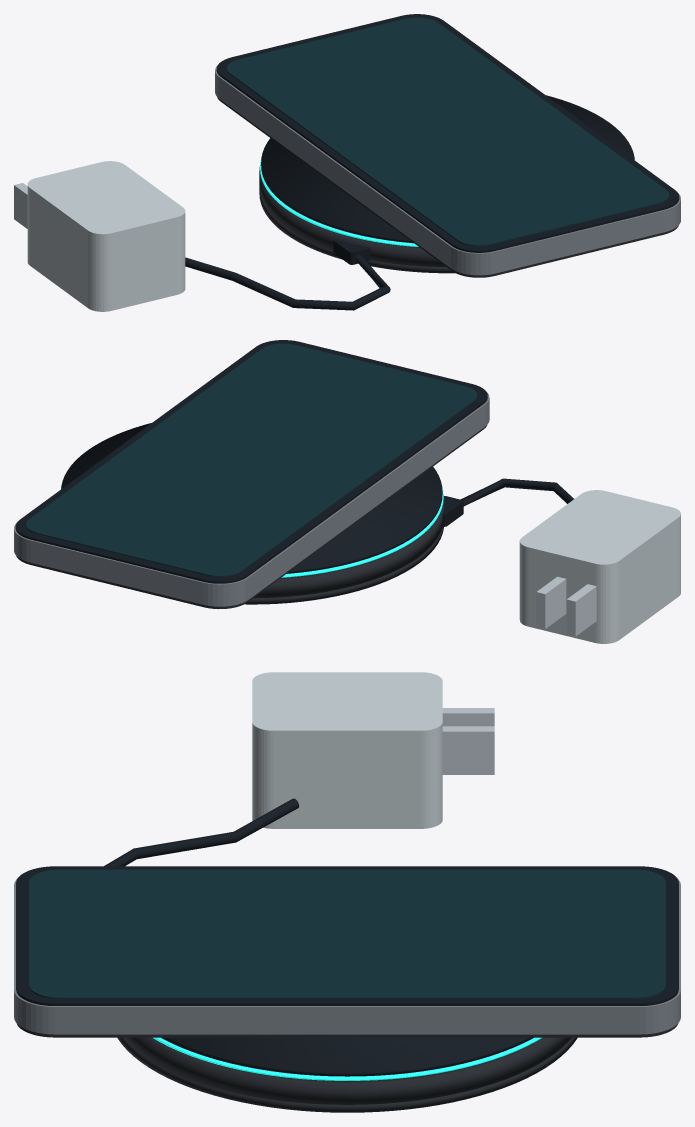
The model's file is wireless-charging-blockout.glb.
3 renders of one model, top to bottom at view 1: azimuth 30°, elevation 25°; view 2: azimuth 150°, elevation 25°; view 3: azimuth 270°, elevation 25°, orthographic. The views are drawn at different scales.
Visible parts, largest first — view 1: screen__wireless_screen, adapter__wireless_white, phone_frame__wireless_frame, pad_cover__wireless_black, screen__wireless_black, pad_base__wireless_graphite, cable__wireless_black, phone_back__wireless_graphite, pad_cover__wireless_teal, adapter__wireless_silver; view 2: screen__wireless_screen, adapter__wireless_white, phone_frame__wireless_frame, pad_cover__wireless_black, screen__wireless_black, pad_base__wireless_graphite, adapter__wireless_silver, cable__wireless_black, phone_back__wireless_graphite, pad_cover__wireless_teal; view 3: screen__wireless_screen, adapter__wireless_white, phone_frame__wireless_frame, pad_base__wireless_graphite, pad_cover__wireless_black, screen__wireless_black, adapter__wireless_silver, phone_back__wireless_graphite, cable__wireless_black, pad_cover__wireless_teal.
Boxes of the visible parts, <box> form: screen__wireless_screen: <box>227,17,669,246</box>; adapter__wireless_white: <box>27,161,185,311</box>; phone_frame__wireless_frame: <box>215,65,680,275</box>; pad_cover__wireless_black: <box>261,95,634,243</box>; screen__wireless_black: <box>216,14,679,252</box>; pad_base__wireless_graphite: <box>259,165,455,273</box>; cable__wireless_black: <box>185,238,390,310</box>; phone_back__wireless_graphite: <box>217,97,678,277</box>; pad_cover__wireless_teal: <box>260,158,635,246</box>; adapter__wireless_silver: <box>14,183,27,228</box>; screen__wireless_screen: <box>26,343,477,576</box>; adapter__wireless_white: <box>519,490,680,643</box>; phone_frame__wireless_frame: <box>14,392,489,606</box>; pad_cover__wireless_black: <box>61,423,442,573</box>; screen__wireless_black: <box>15,340,487,583</box>; pad_base__wireless_graphite: <box>245,494,444,604</box>; adapter__wireless_silver: <box>536,576,596,636</box>; cable__wireless_black: <box>442,478,573,526</box>; phone_back__wireless_graphite: <box>16,425,487,609</box>; pad_cover__wireless_teal: <box>60,487,443,577</box>; screen__wireless_screen: <box>29,869,665,998</box>; adapter__wireless_white: <box>252,672,442,828</box>; phone_frame__wireless_frame: <box>14,878,680,1034</box>; pad_base__wireless_graphite: <box>117,1037,577,1112</box>; pad_cover__wireless_black: <box>161,1037,533,1076</box>; screen__wireless_black: <box>16,866,678,1005</box>; adapter__wireless_silver: <box>442,708,494,774</box>; phone_back__wireless_graphite: <box>16,1023,678,1037</box>; cable__wireless_black: <box>104,798,298,866</box>; pad_cover__wireless_teal: <box>153,1037,541,1080</box>.
Bounding box in the file's own units: 0.186 × 0.0255 × 0.154.
